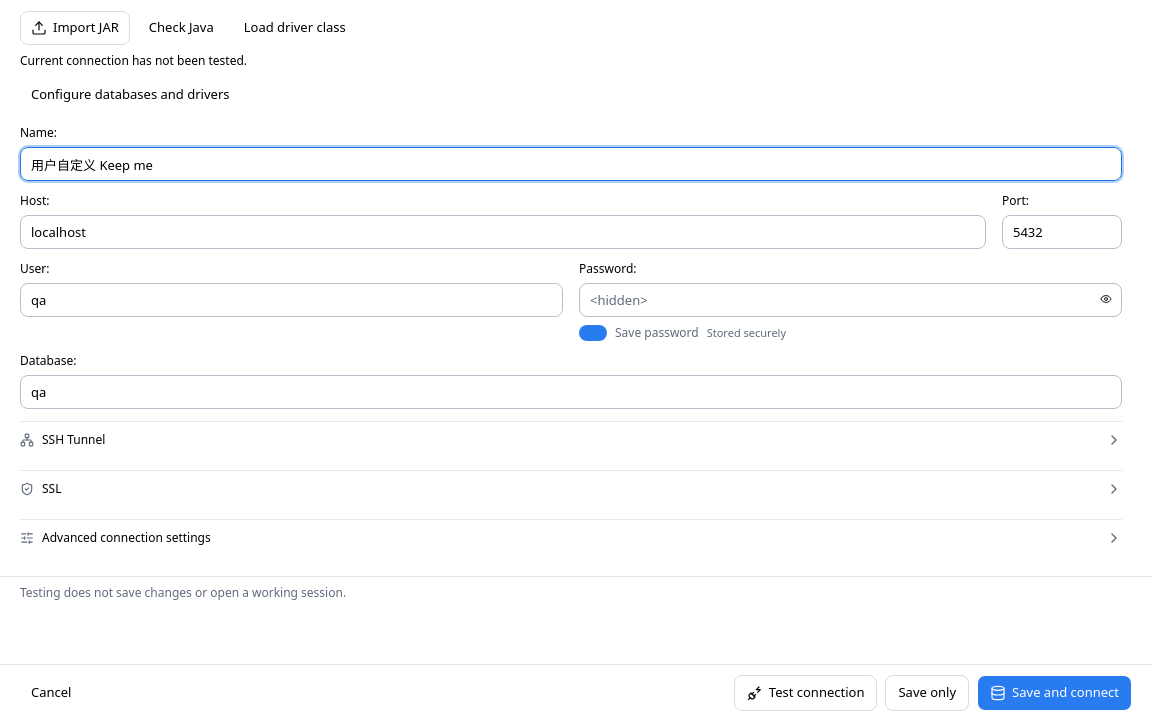
Scenario: invalidates a completed result when password changes
This screenshot has width=1152, height=720.
(page scrolled)
Click the button "Test connection" at (806, 692), box [734,674,878,710]
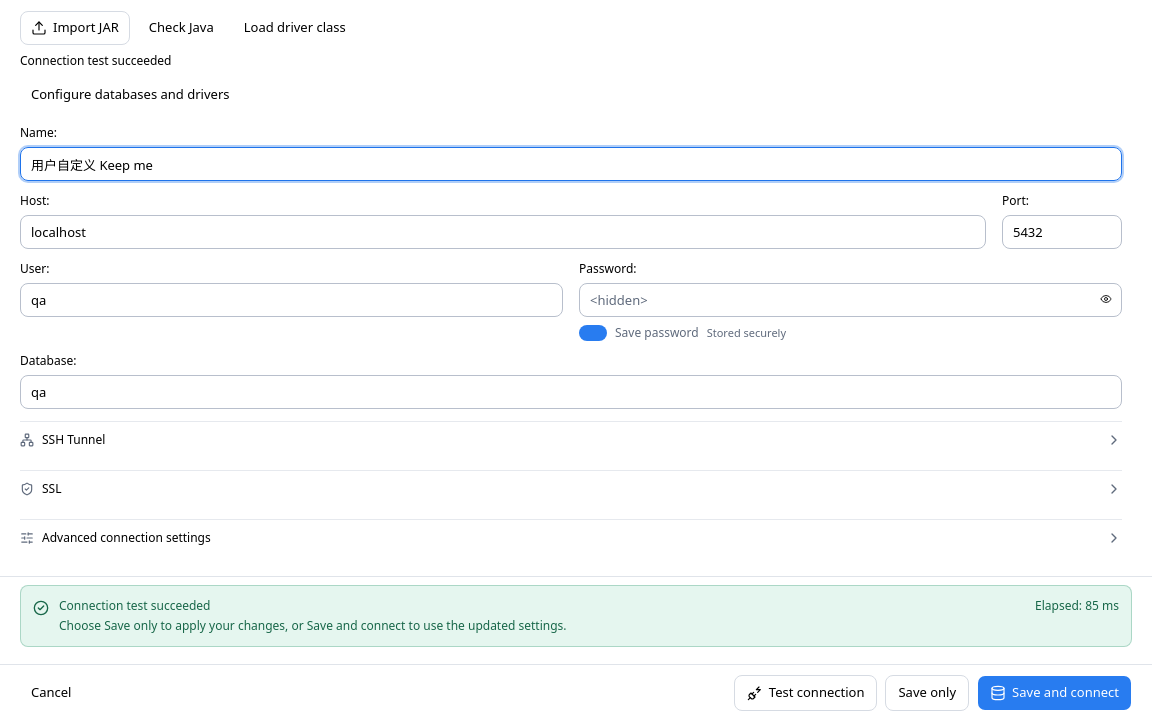
Type "fixture" into the password field labelled "Password:" at (850, 300), box [579,283,1122,317]
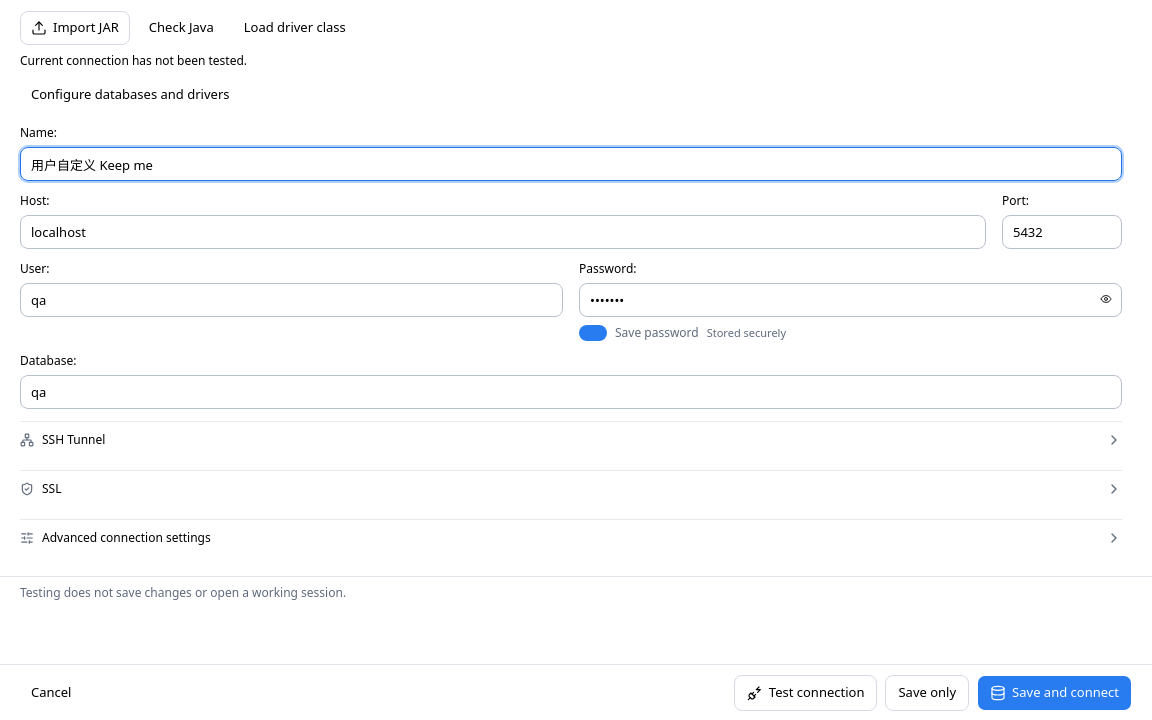
Expected: the text "Connection test succeeded" is gone
Expected: the text "Current connection has not been tested." is shown, [20,52,247,69]
